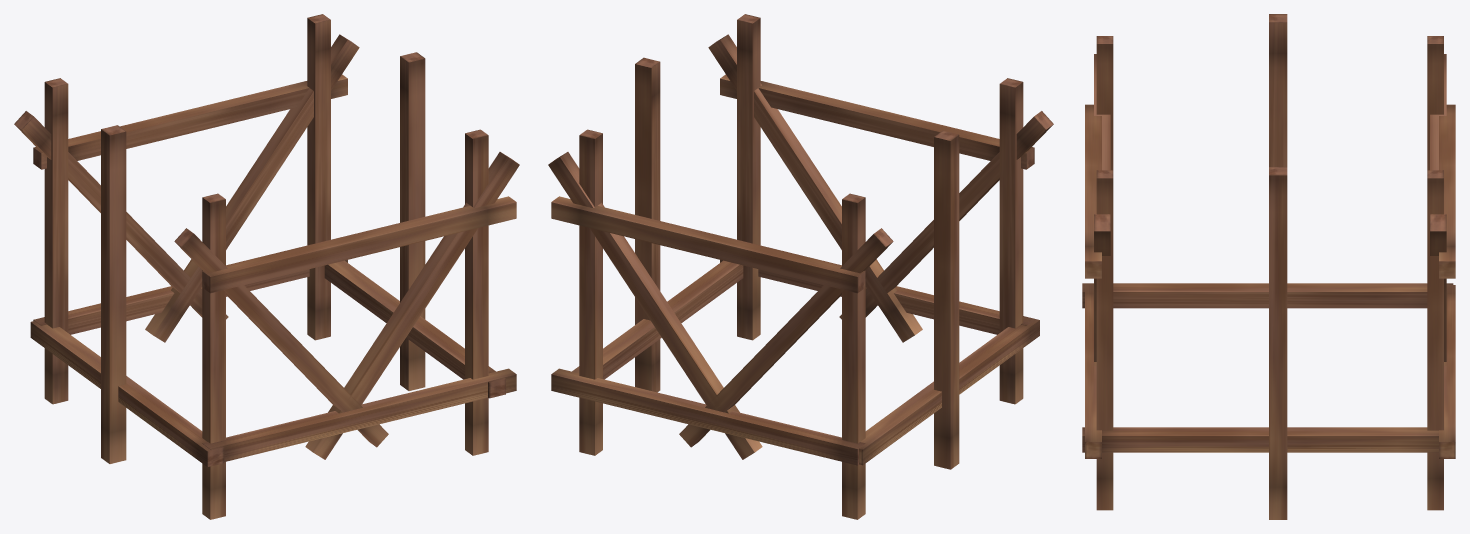
The model's file is fundation_ram.dae.
The picture shows the model from 3 angles, left to right: view 1: azimuth 30°, elevation 25°; view 2: azimuth 150°, elevation 25°; view 3: azimuth 270°, elevation 25°; orthographic projection. The views are drawn at different scales.
Parts seen in each view (by area): view 1: Cube.007; view 2: Cube.007; view 3: Cube.007.
Boxes of the visible parts, bbox=[...] form: Cube.007: bbox=[14, 14, 519, 519]; Cube.007: bbox=[548, 14, 1053, 519]; Cube.007: bbox=[1082, 14, 1455, 519].
Bounding box in the file's own units: 8.93 × 8.16 × 8.31.
